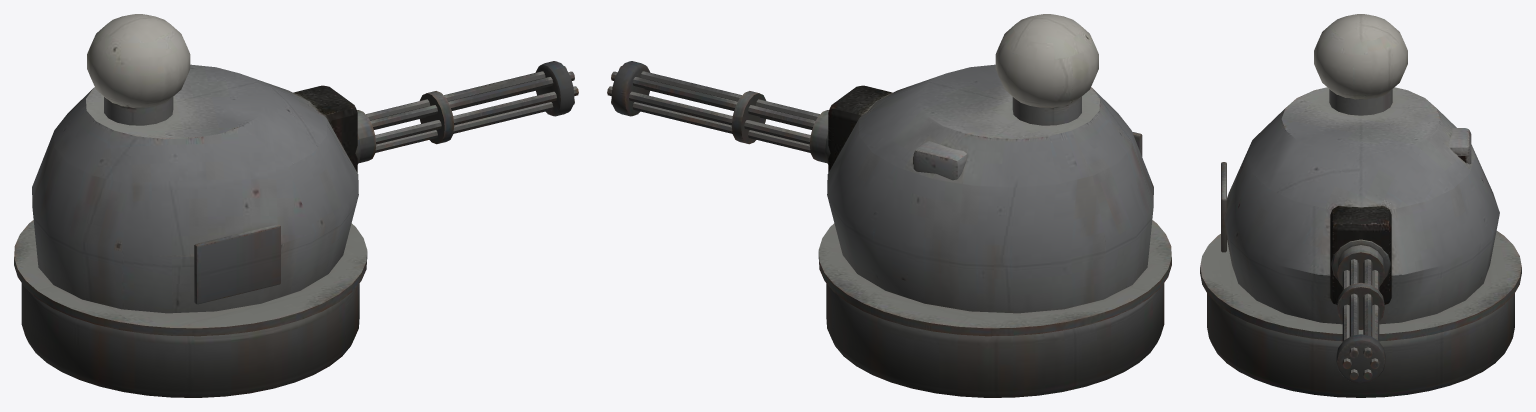
File: fh_battle_e_lev_zsu.glb
The picture shows the model from 3 angles, left to right: view 1: azimuth 30°, elevation 25°; view 2: azimuth 150°, elevation 25°; view 3: azimuth 270°, elevation 25°; orthographic projection. The views are drawn at different scales.
Parts seen in each view (by area): view 1: turret, zsu, gun; view 2: turret, zsu, gun; view 3: turret, zsu, gun.
Part boxes in pixels (x1,y1,x2,y2): turret: [32, 14, 358, 313]; zsu: [14, 220, 367, 397]; gun: [355, 61, 578, 164]; turret: [827, 14, 1153, 313]; zsu: [818, 220, 1171, 397]; gun: [607, 61, 830, 164]; turret: [1221, 14, 1499, 324]; zsu: [1200, 231, 1521, 397]; gun: [1331, 239, 1390, 383].
Bounding box in the file's own units: 0.8029 × 0.4689 × 0.4629.
1 material, 1 textured.
